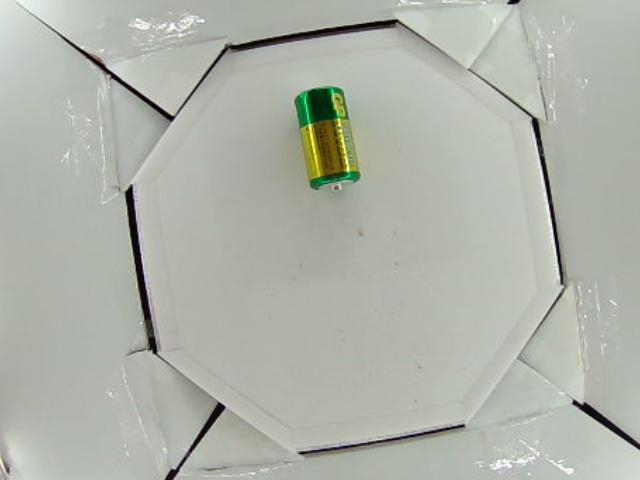Battery: (293, 87, 361, 193)
